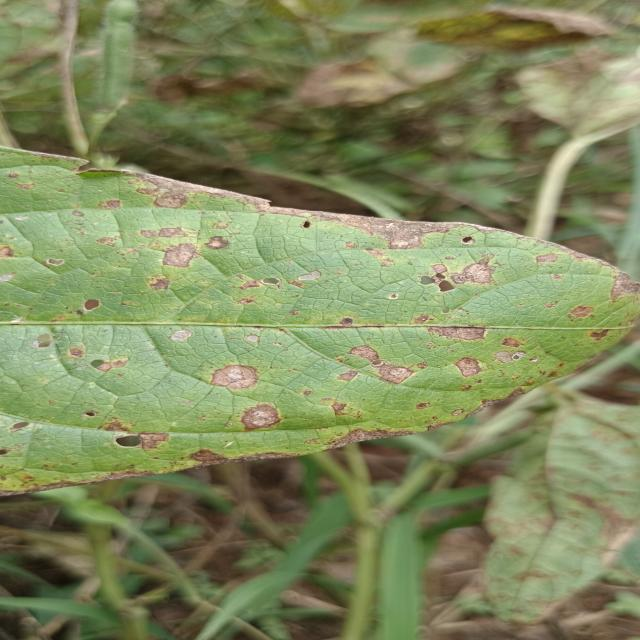Black gram_leaf spot: (0, 198, 640, 490)
